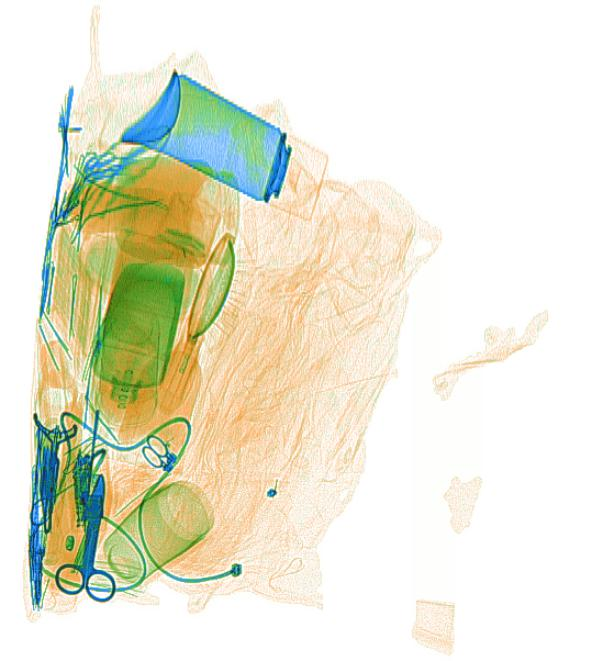plasticBottleWithaNozzle: (114, 315, 204, 459)
pressure: (123, 68, 329, 220)
scissors: (53, 471, 117, 603)
